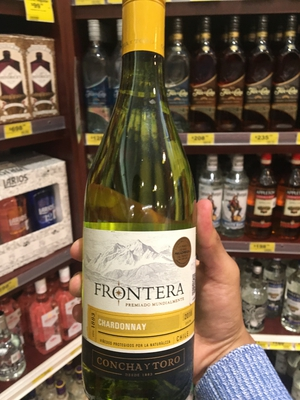frontera chardonnay: (69, 8, 212, 397)
